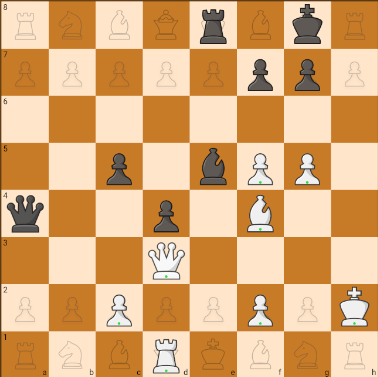bb: (192, 144, 234, 188)
bk: (286, 2, 328, 47)
bp: (99, 145, 140, 189), (147, 193, 188, 235), (242, 52, 279, 94), (289, 53, 323, 93)
bq: (5, 193, 46, 234)
br: (195, 3, 233, 47)
wk: (333, 286, 375, 329)
wp: (99, 290, 141, 331), (242, 148, 280, 187), (241, 292, 282, 327)
wq: (144, 239, 189, 280), (241, 191, 280, 234)
wr: (290, 149, 328, 189), (149, 335, 186, 374)
